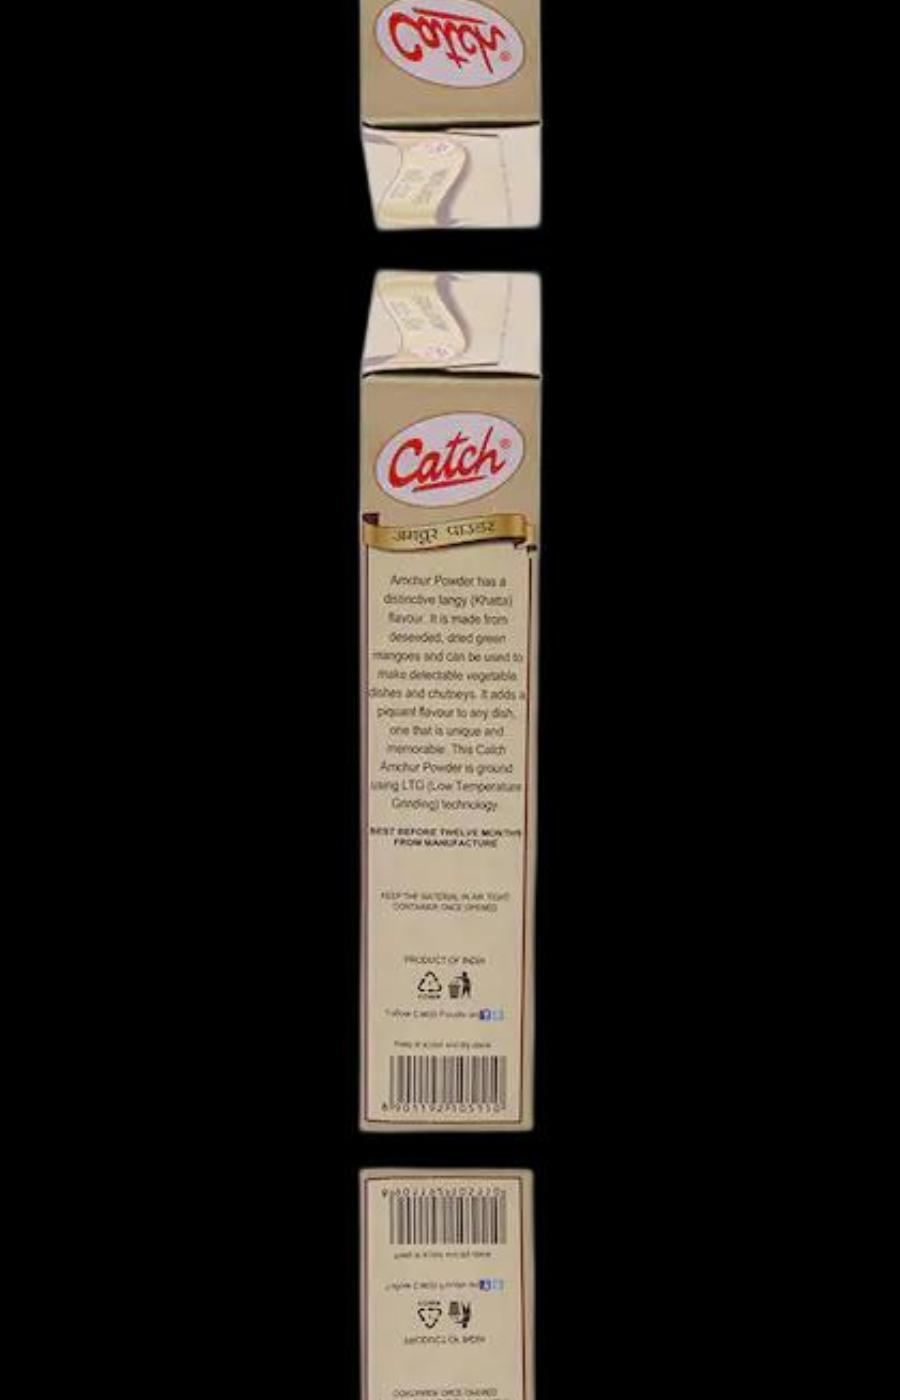Catch Amchur Powder 100 g: (350, 264, 548, 1140), (350, 1160, 548, 1400), (350, 0, 548, 235)
